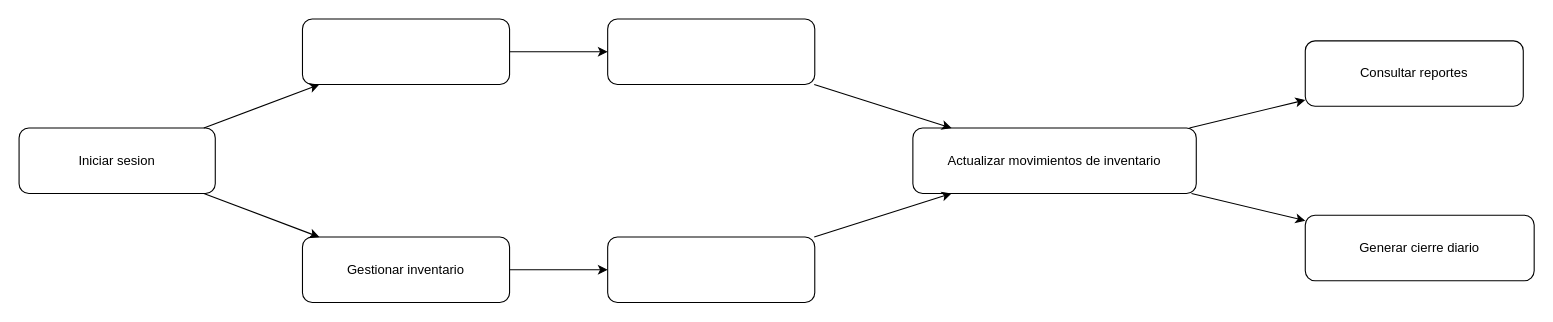
Some shapes in this 1553 by 322 pixel diagram are drawn without their labels. Each missing label, with the centre of its shape:
"Gestionar catalogo" belongs at [405,51].
"Registrar compras" belongs at [711,51].
"Registrar ventas" belongs at [711,269].
